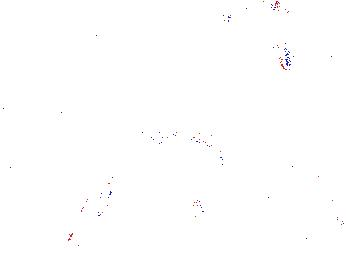X-ray fish: (273, 34, 298, 72)
glassfish: (68, 169, 123, 257), (138, 122, 231, 173)
red belly glassfish: (328, 48, 346, 62)
redtail glassfish: (220, 1, 289, 25)
